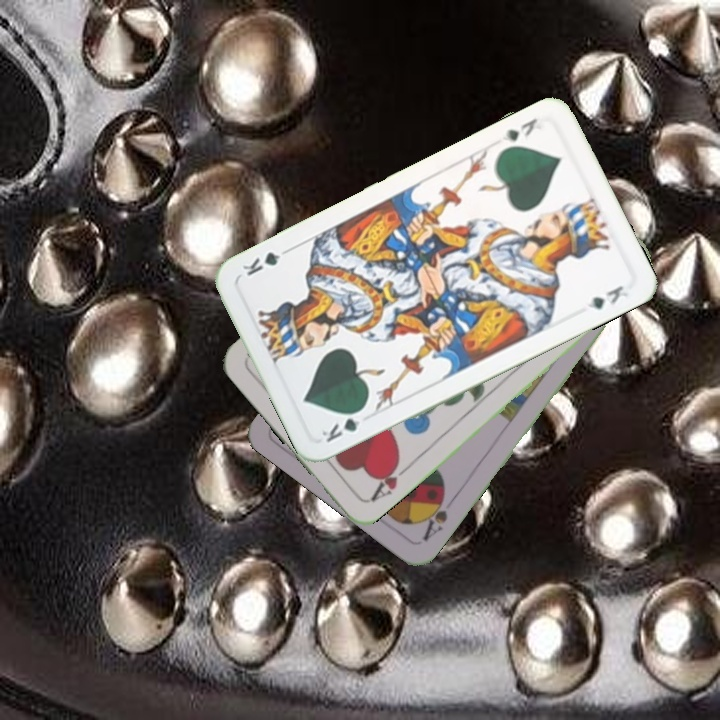GK: (317, 404, 369, 446), (498, 114, 540, 145)
HA: (366, 456, 413, 504)
SA: (417, 487, 458, 544)
